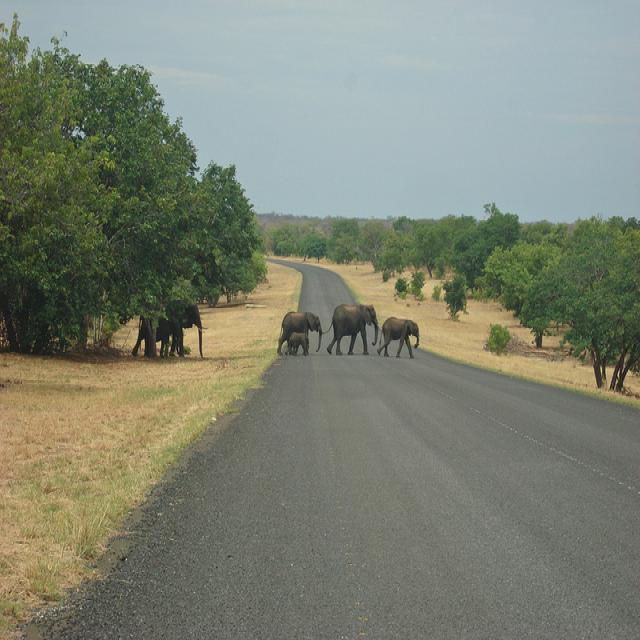Elephant: (131, 301, 208, 359), (325, 302, 379, 354), (276, 309, 323, 355), (376, 316, 419, 357)
